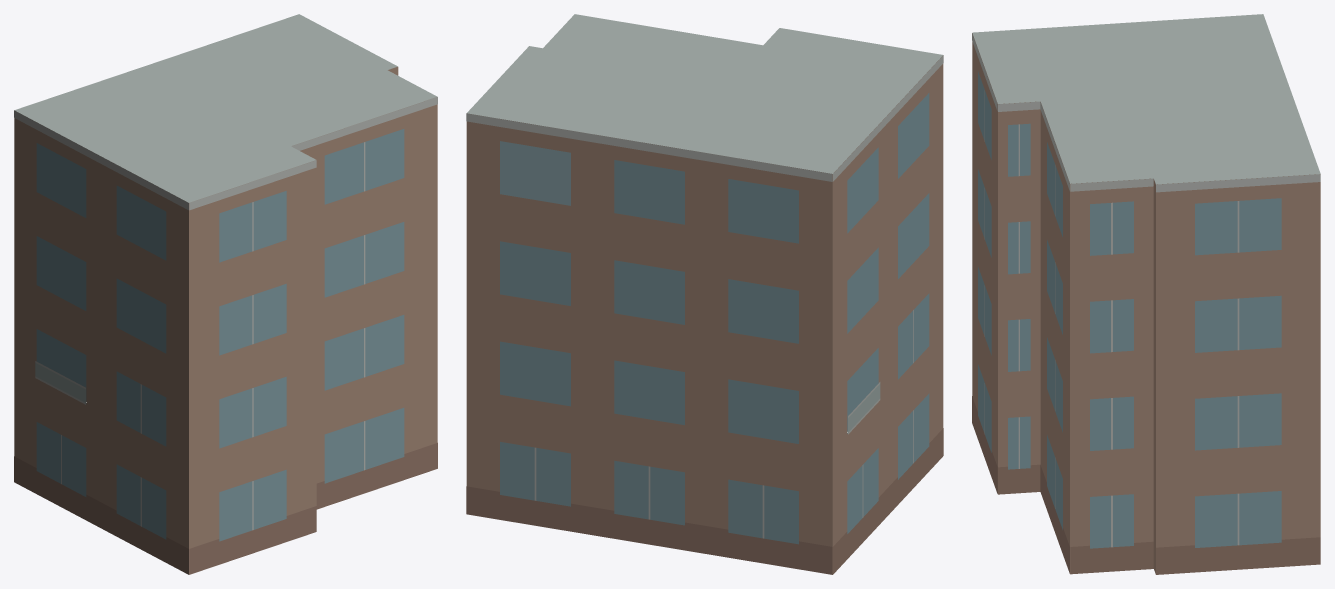
File: survey-upis-32627724.glb
3 views of the same model, side by side, from view 1: azimuth 30°, elevation 25°; view 2: azimuth 150°, elevation 25°; view 3: azimuth 270°, elevation 25° (orthographic). The views are drawn at different scales.
Visible parts, largest first — view 1: survey-upis-32627724.tmp; view 2: survey-upis-32627724.tmp; view 3: survey-upis-32627724.tmp.
Part boxes in pixels (bbox=[...]): survey-upis-32627724.tmp: bbox=[14, 14, 437, 574]; survey-upis-32627724.tmp: bbox=[466, 14, 943, 574]; survey-upis-32627724.tmp: bbox=[972, 14, 1320, 574].
Bounding box in the file's own units: 11.25 × 12 × 9.72.
